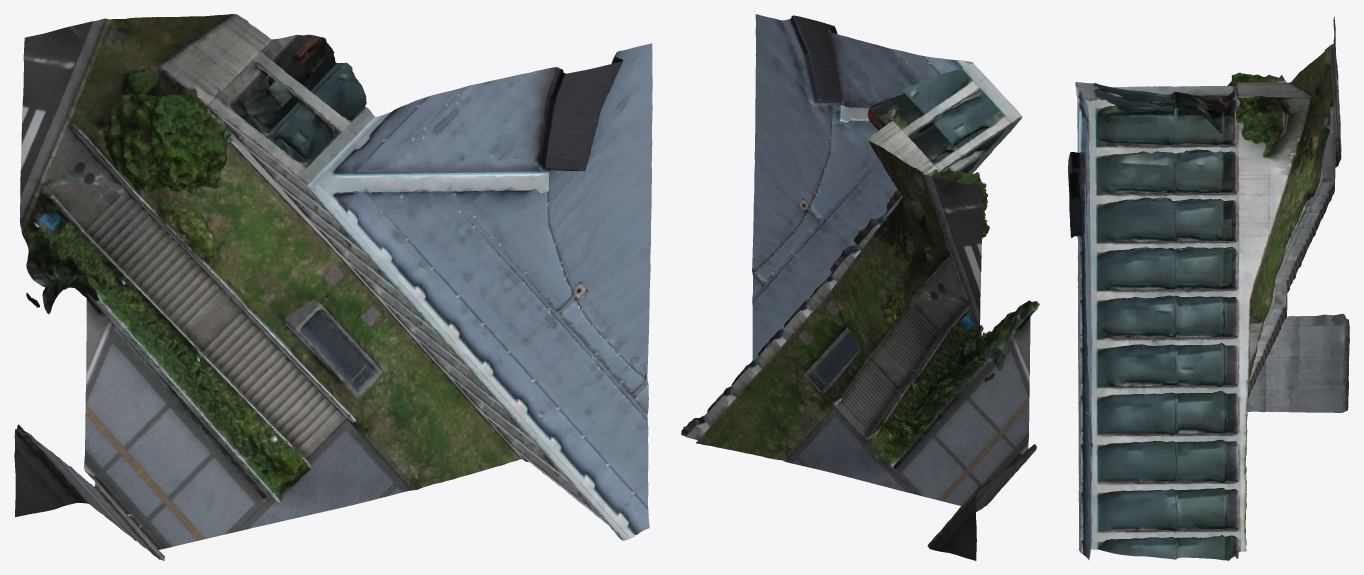
File: Tile_+015_+016.fbx
The picture shows the model from 3 angles, left to right: view 1: azimuth 30°, elevation 25°; view 2: azimuth 150°, elevation 25°; view 3: azimuth 270°, elevation 25°; orthographic projection. The views are drawn at different scales.
Visible parts, largest first — view 1: DefaultName; view 2: DefaultName; view 3: DefaultName.
Part boxes in pixels (bbox=[...]): DefaultName: bbox=[14, 14, 652, 560]; DefaultName: bbox=[681, 14, 1039, 560]; DefaultName: bbox=[1068, 16, 1349, 560].
Size of the model in its own units: 22.54 by 22.54 by 15.44.
